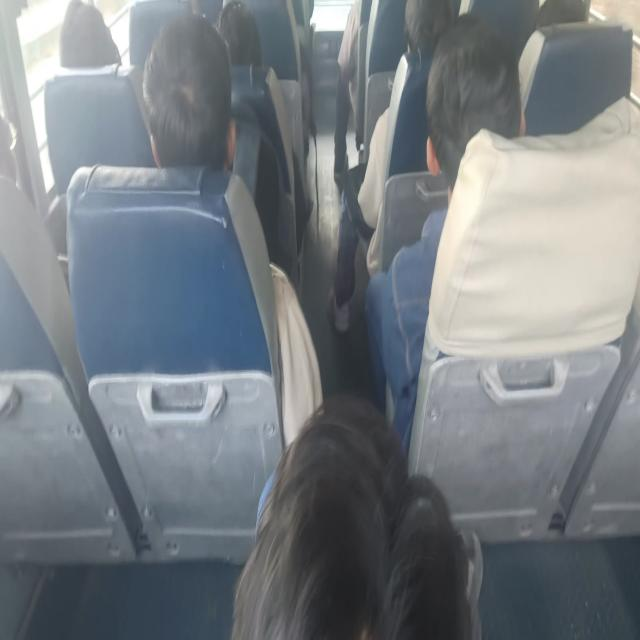person: (141, 13, 324, 446), (364, 12, 525, 452), (230, 393, 484, 638), (326, 0, 456, 333), (142, 13, 236, 171), (332, 0, 362, 191), (58, 0, 122, 69), (217, 0, 262, 66)
